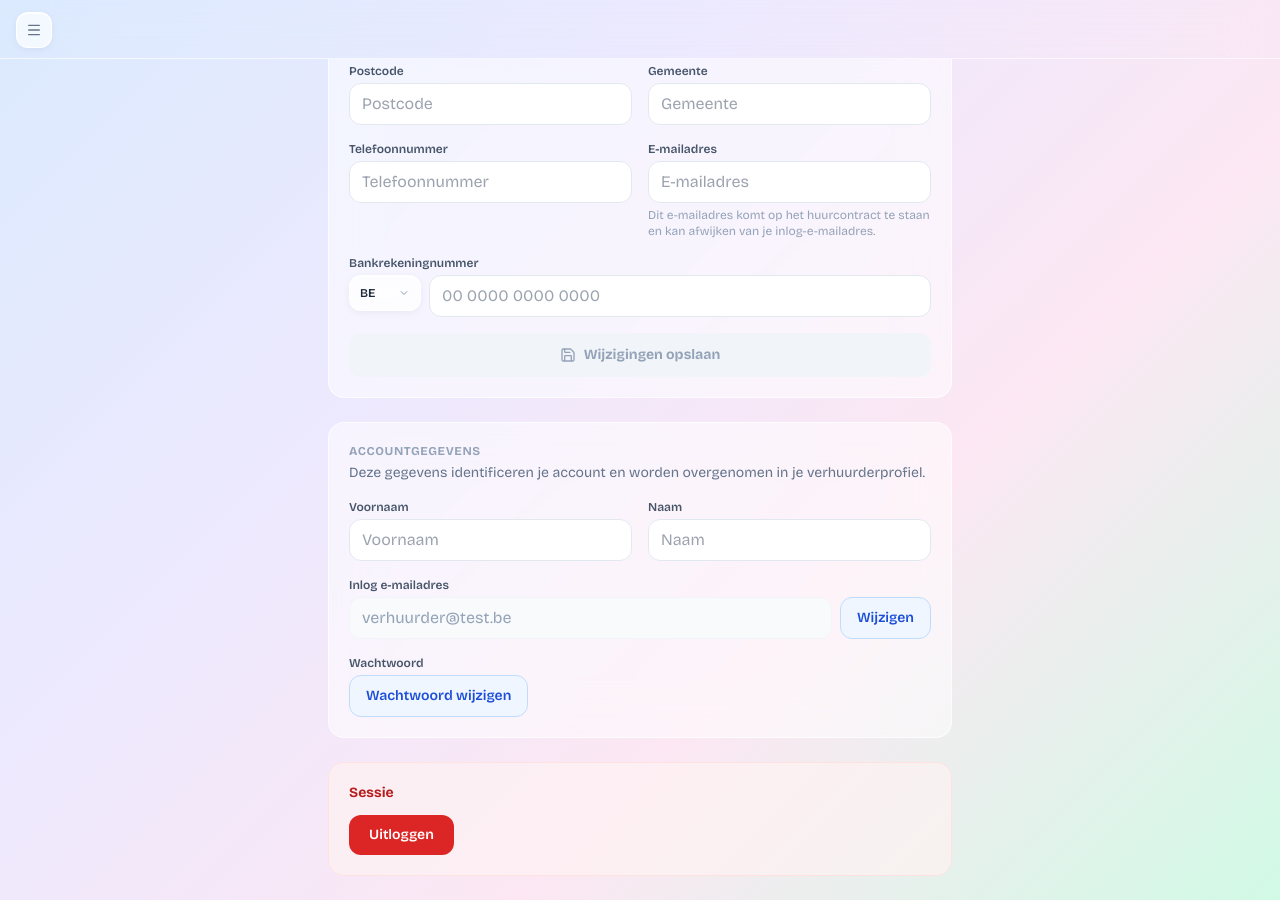
Test: AccountPage › verstuurt updateEmail en toont bevestiging bij opslaan nieuw e-mailadres
(page scrolled)
Step 1. Click the button "Wijzigen" → point(886, 618), box x1=840 y1=597 x2=931 y2=639
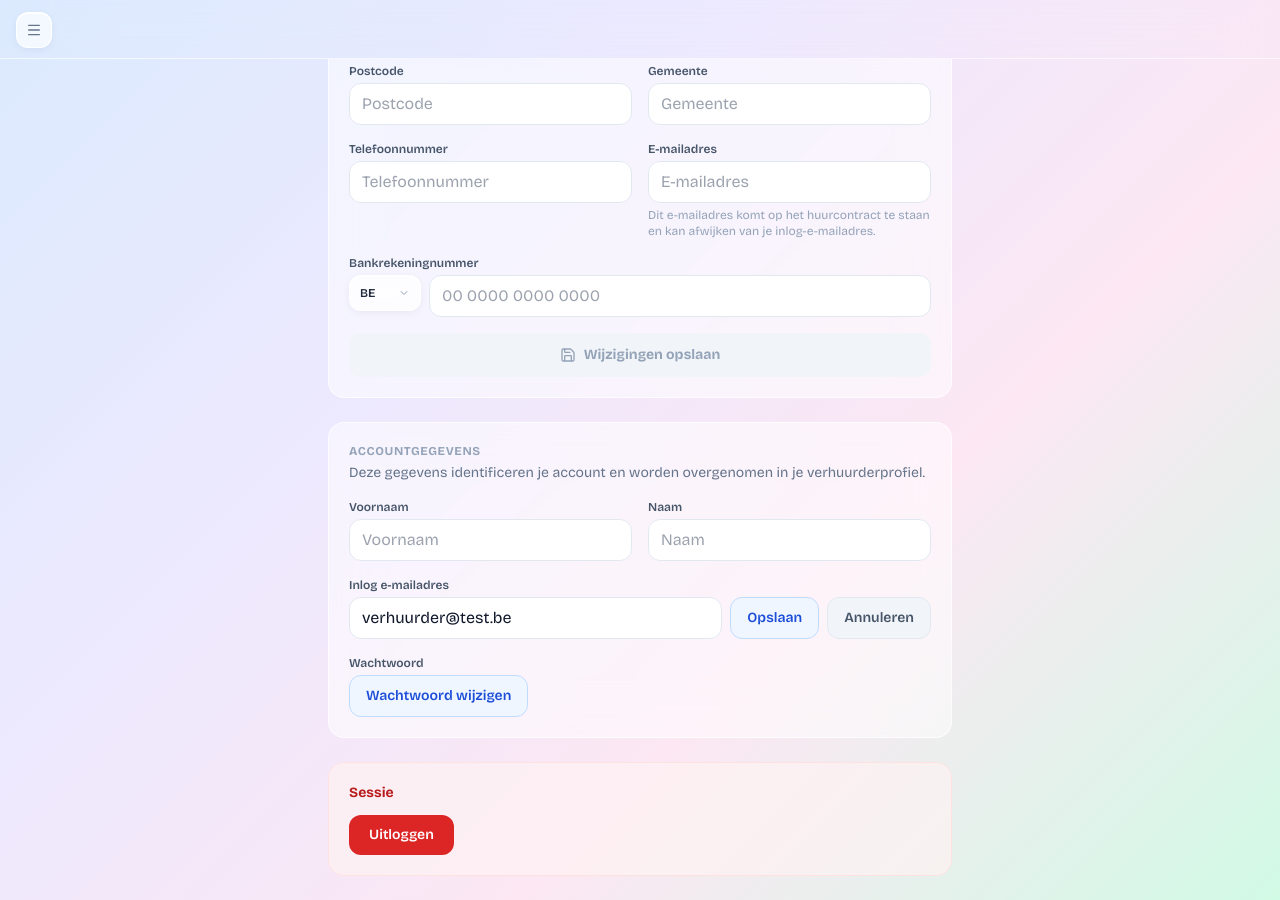
Step 2. Replace the text in the field named "Nieuw e-mailadres" with "nieuw@test.be" → point(536, 618), box x1=349 y1=597 x2=722 y2=639
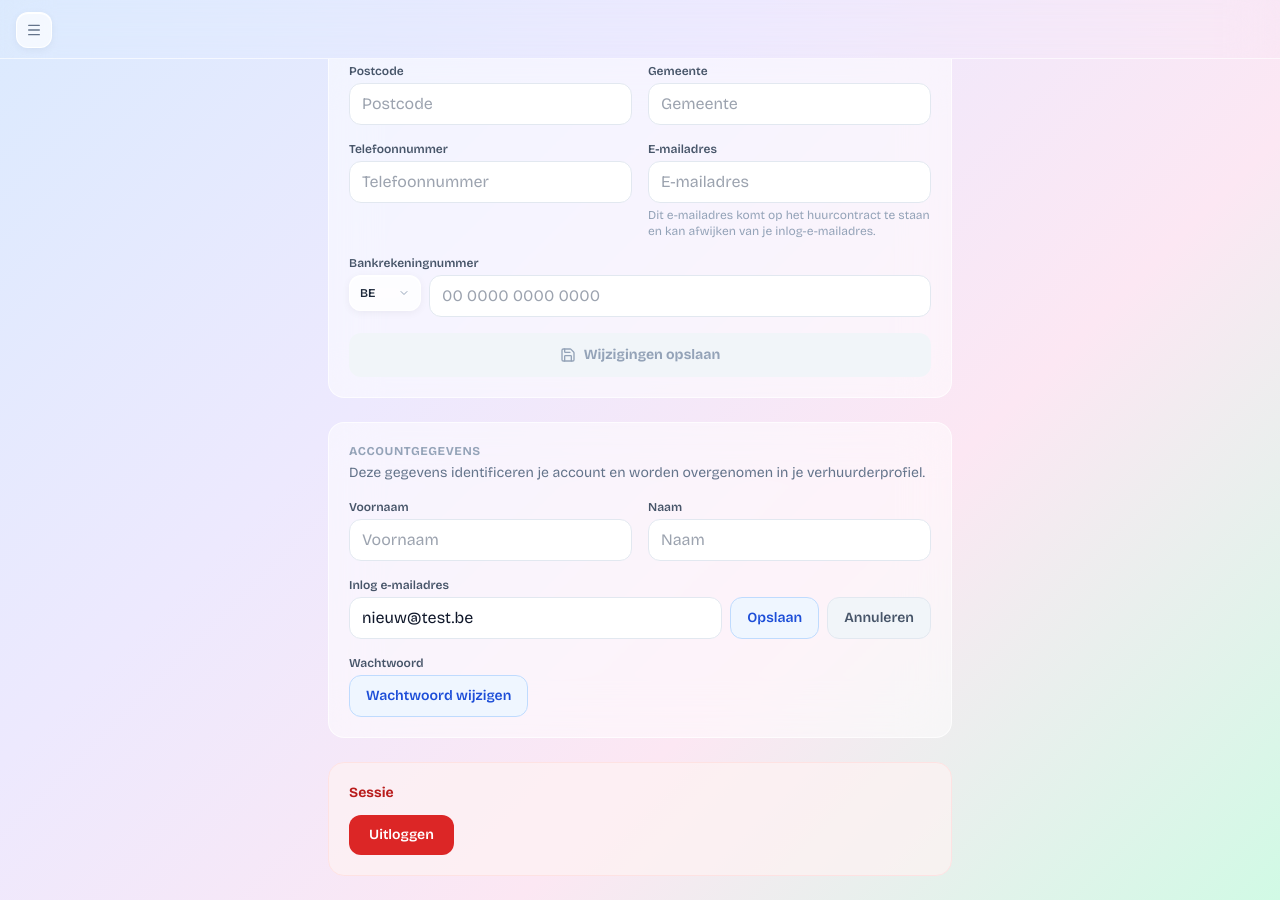
Step 3. Click the button "Opslaan" → point(775, 618), box x1=730 y1=597 x2=819 y2=639
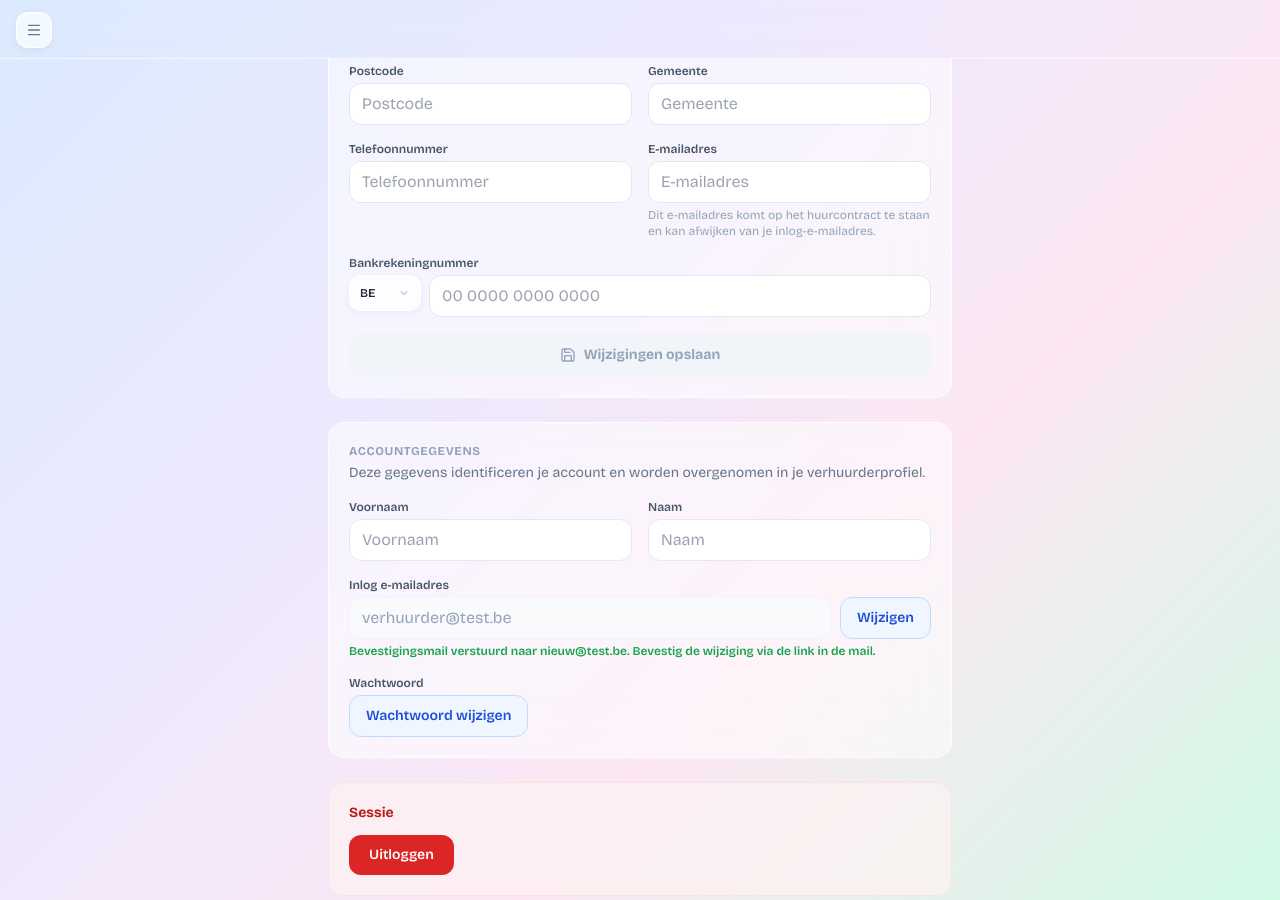
Expected: the text "Bevestigingsmail verstuurd" is shown, x1=349 y1=644 x2=875 y2=658
